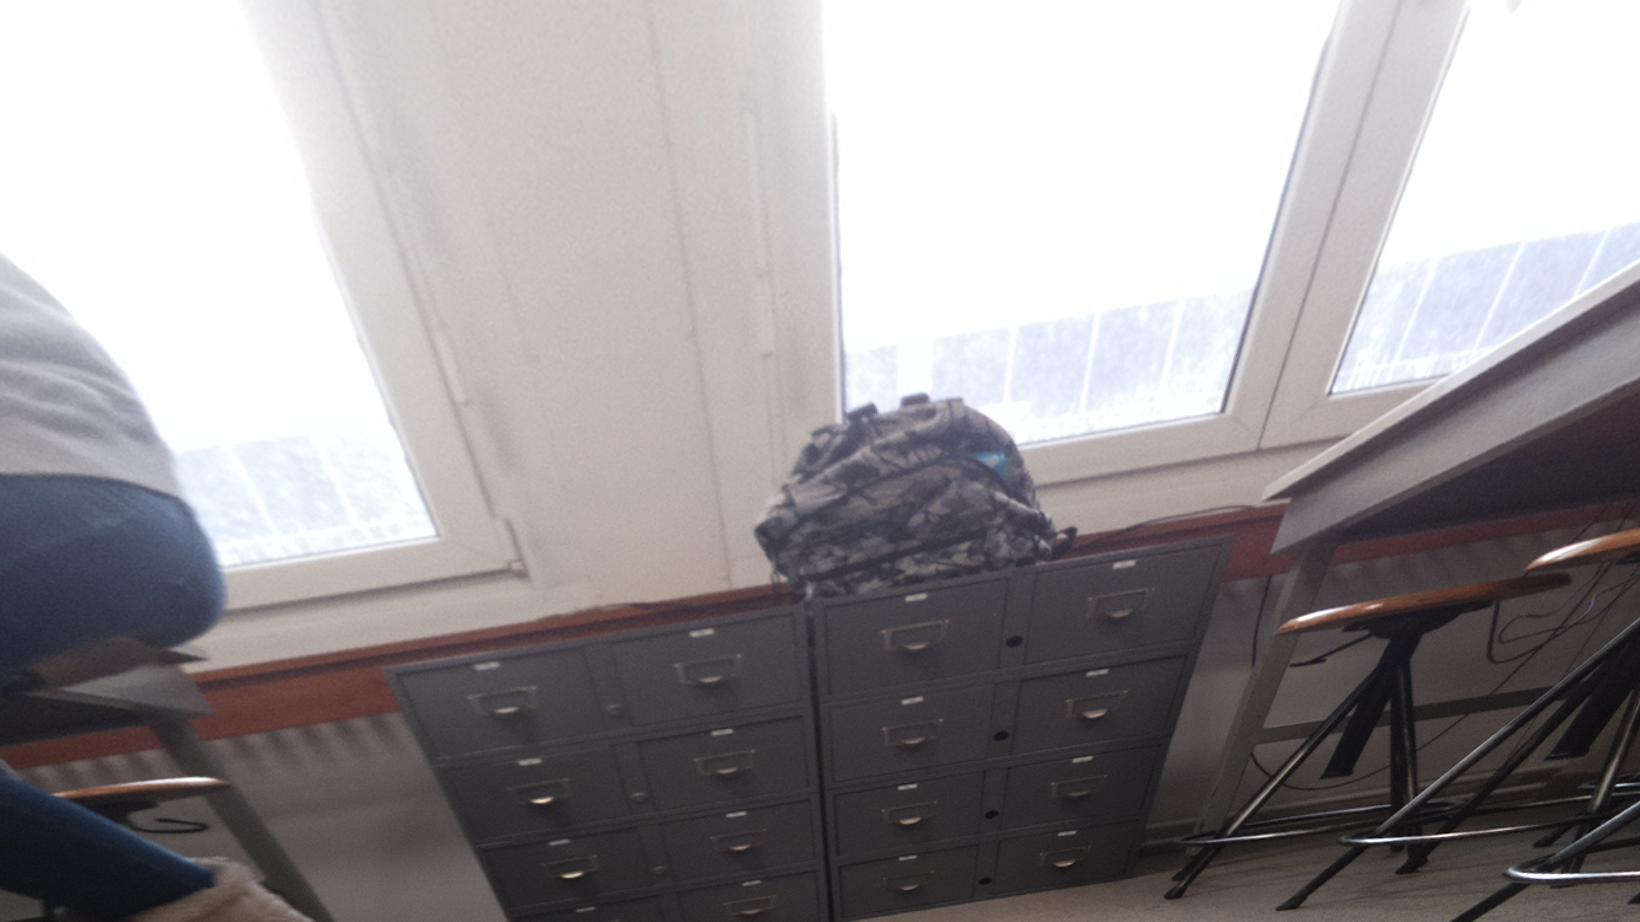big: (766, 402, 1048, 592)
